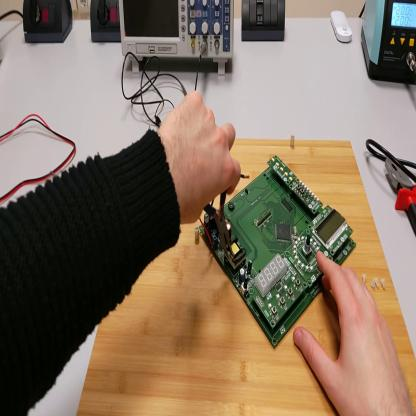hand: (295, 247, 410, 416), (157, 92, 241, 226)
low voltage board: (200, 154, 357, 349)
oscilloscope: (120, 2, 235, 75)
pliers: (387, 158, 416, 235)
socket: (24, 1, 76, 48), (91, 1, 123, 46)
welder station: (363, 3, 416, 83)
working area: (80, 145, 416, 416)
